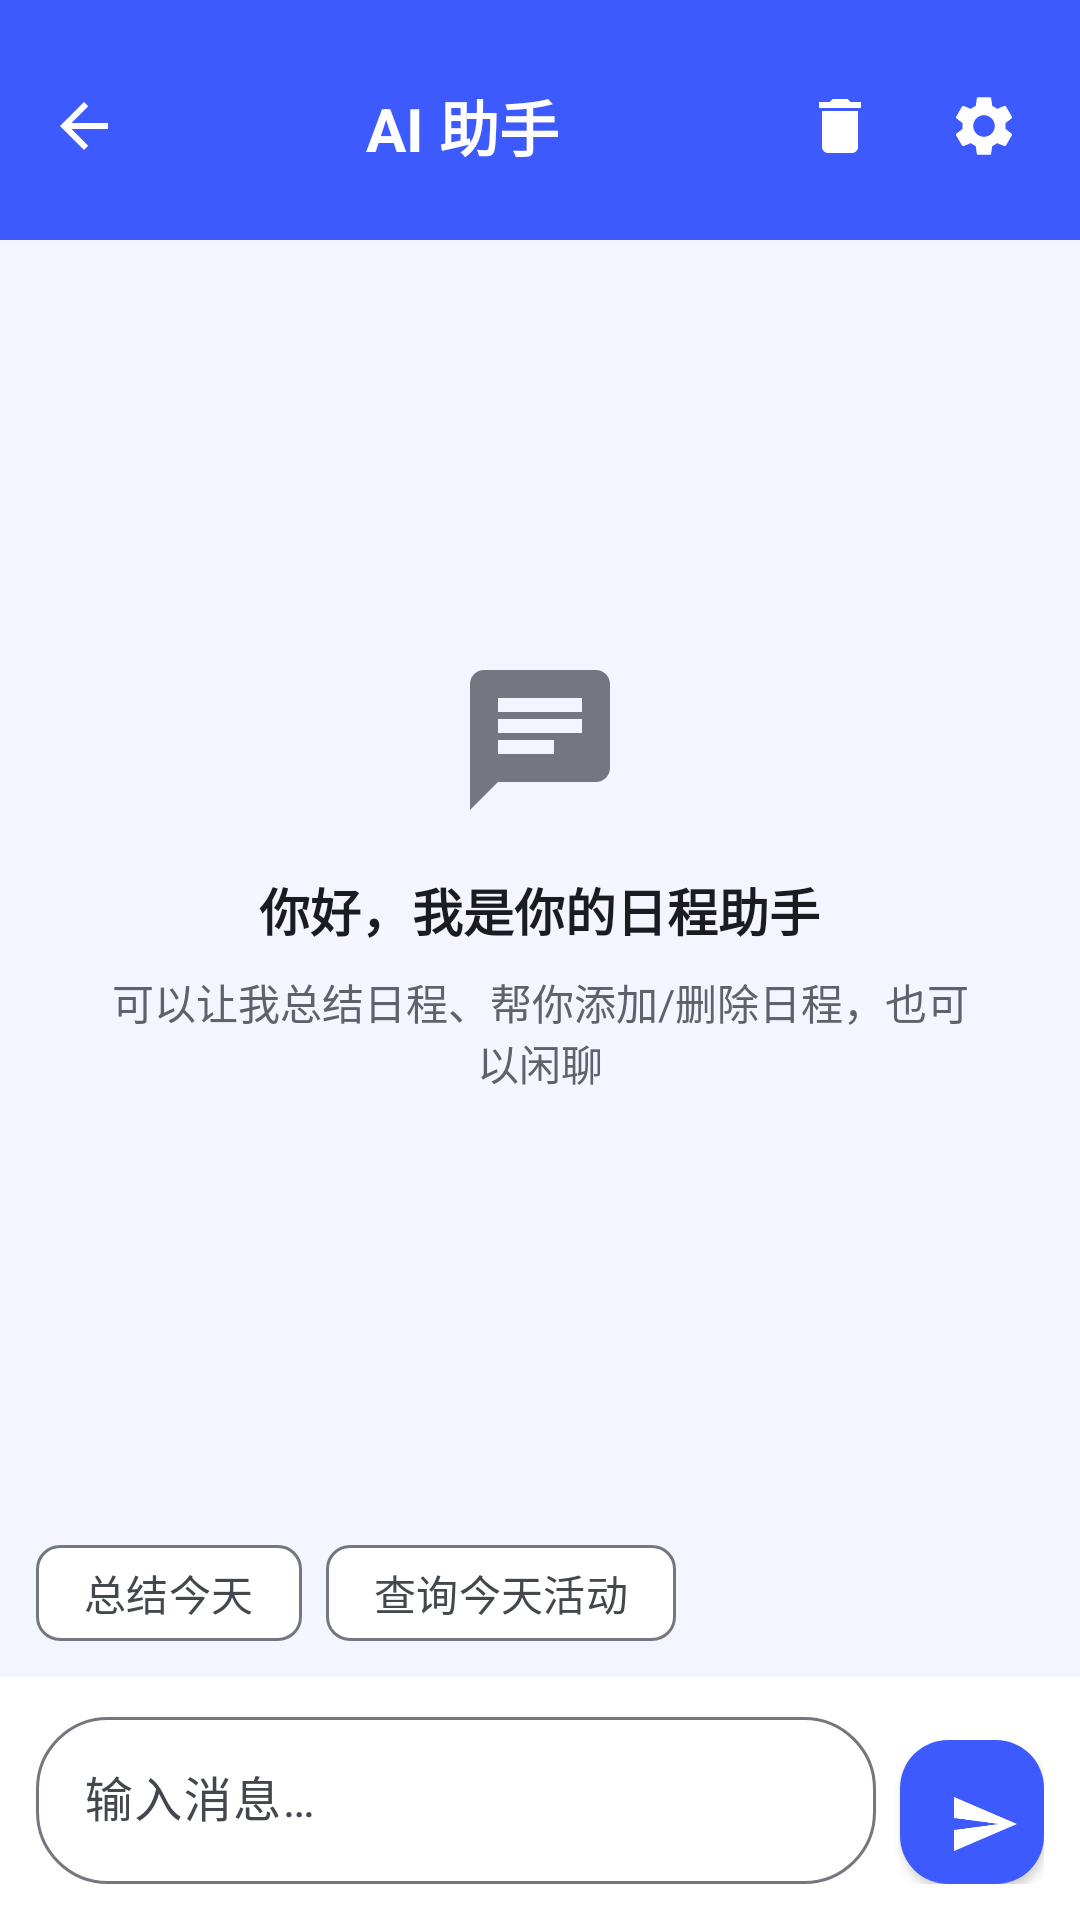

Where icons sit on this 1080w x 1920h app screen, as (x1, y1, x2, y2):
AI 接口设置: (956, 97, 1012, 155)
chat: (470, 670, 610, 810)
发送: (900, 1740, 1044, 1884)
清空对话: (819, 99, 861, 153)
返回: (60, 102, 108, 150)
